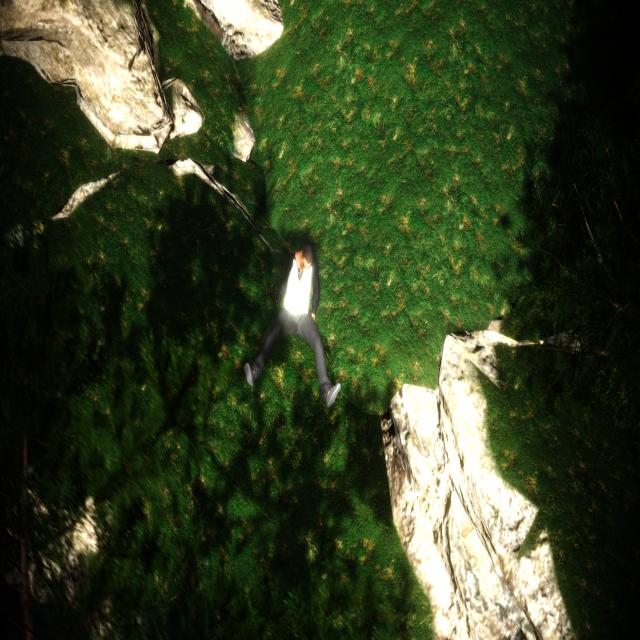Human: (240, 232, 344, 419)
